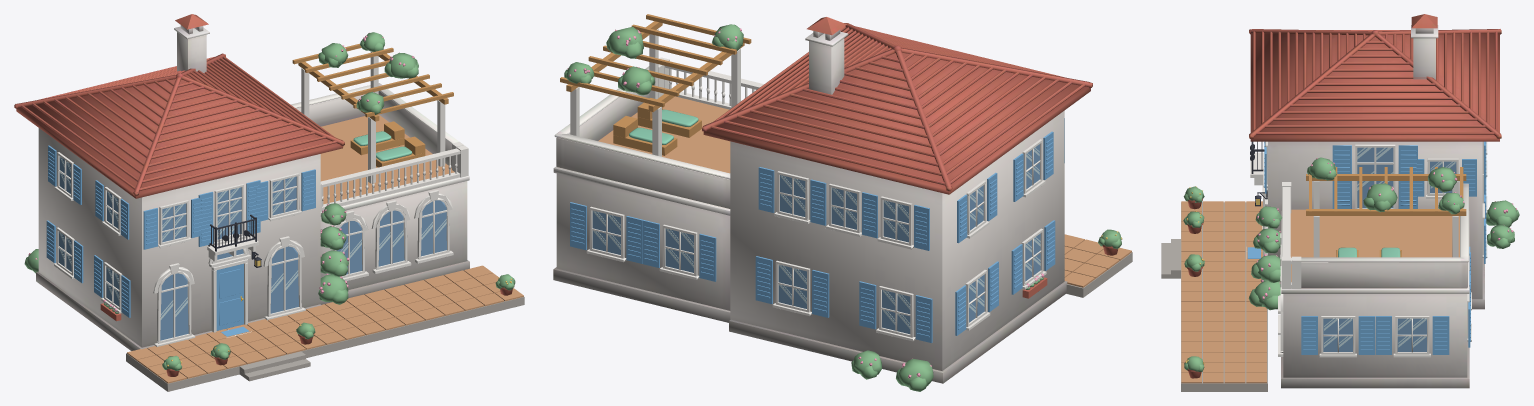
The model's file is bldg_villa.glb.
3 renders of one model, left to right at view 1: azimuth 30°, elevation 25°; view 2: azimuth 150°, elevation 25°; view 3: azimuth 270°, elevation 25°, orthographic. The views are drawn at different scales.
Visible parts, largest first — view 1: mediterranean-villa_details, mediterranean-villa_body, mediterranean-villa_glints, mediterranean-villa_details_cushion_0; view 2: mediterranean-villa_body, mediterranean-villa_details, mediterranean-villa_glints, mediterranean-villa_details_cushion_0; view 3: mediterranean-villa_body, mediterranean-villa_details, mediterranean-villa_glints, mediterranean-villa_details_cushion_0.
Part boxes in pixels (x1,y1,x2,y2): mediterranean-villa_details: (24,32,524,391); mediterranean-villa_body: (14,14,469,350); mediterranean-villa_glints: (59,156,446,319); mediterranean-villa_details_cushion_0: (353,131,412,161); mediterranean-villa_body: (553,17,1092,383); mediterranean-villa_details: (560,14,1132,391); mediterranean-villa_glints: (593,147,1040,328); mediterranean-villa_details_cushion_0: (629,109,698,144); mediterranean-villa_body: (1249,14,1501,388); mediterranean-villa_details: (1161,141,1519,391); mediterranean-villa_glints: (1324,147,1455,347); mediterranean-villa_details_cushion_0: (1338,247,1400,257).
Size of the model in its own units: 13.91 by 9.6 by 11.62.
18 materials, 1 textured.
